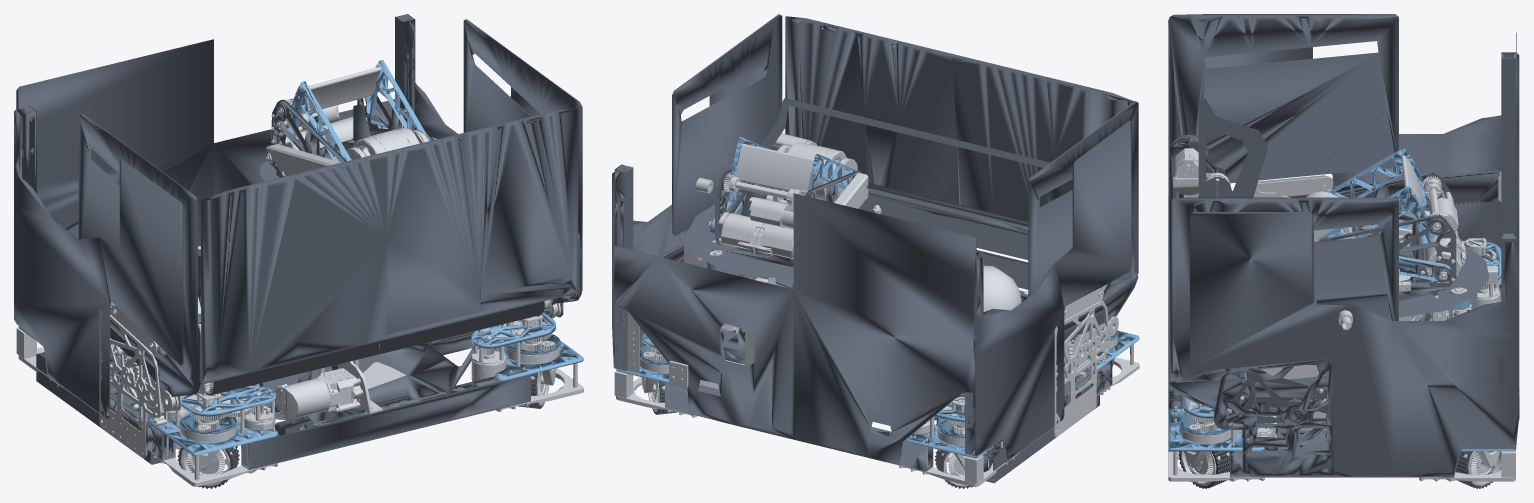
Rendered from robot-hi.glb.
3 views of the same model, side by side, from view 1: azimuth 30°, elevation 25°; view 2: azimuth 150°, elevation 25°; view 3: azimuth 270°, elevation 25° (orthographic). The views are drawn at different scales.
Size of the model in its own units: 0.8181 by 0.6071 by 0.6163.
